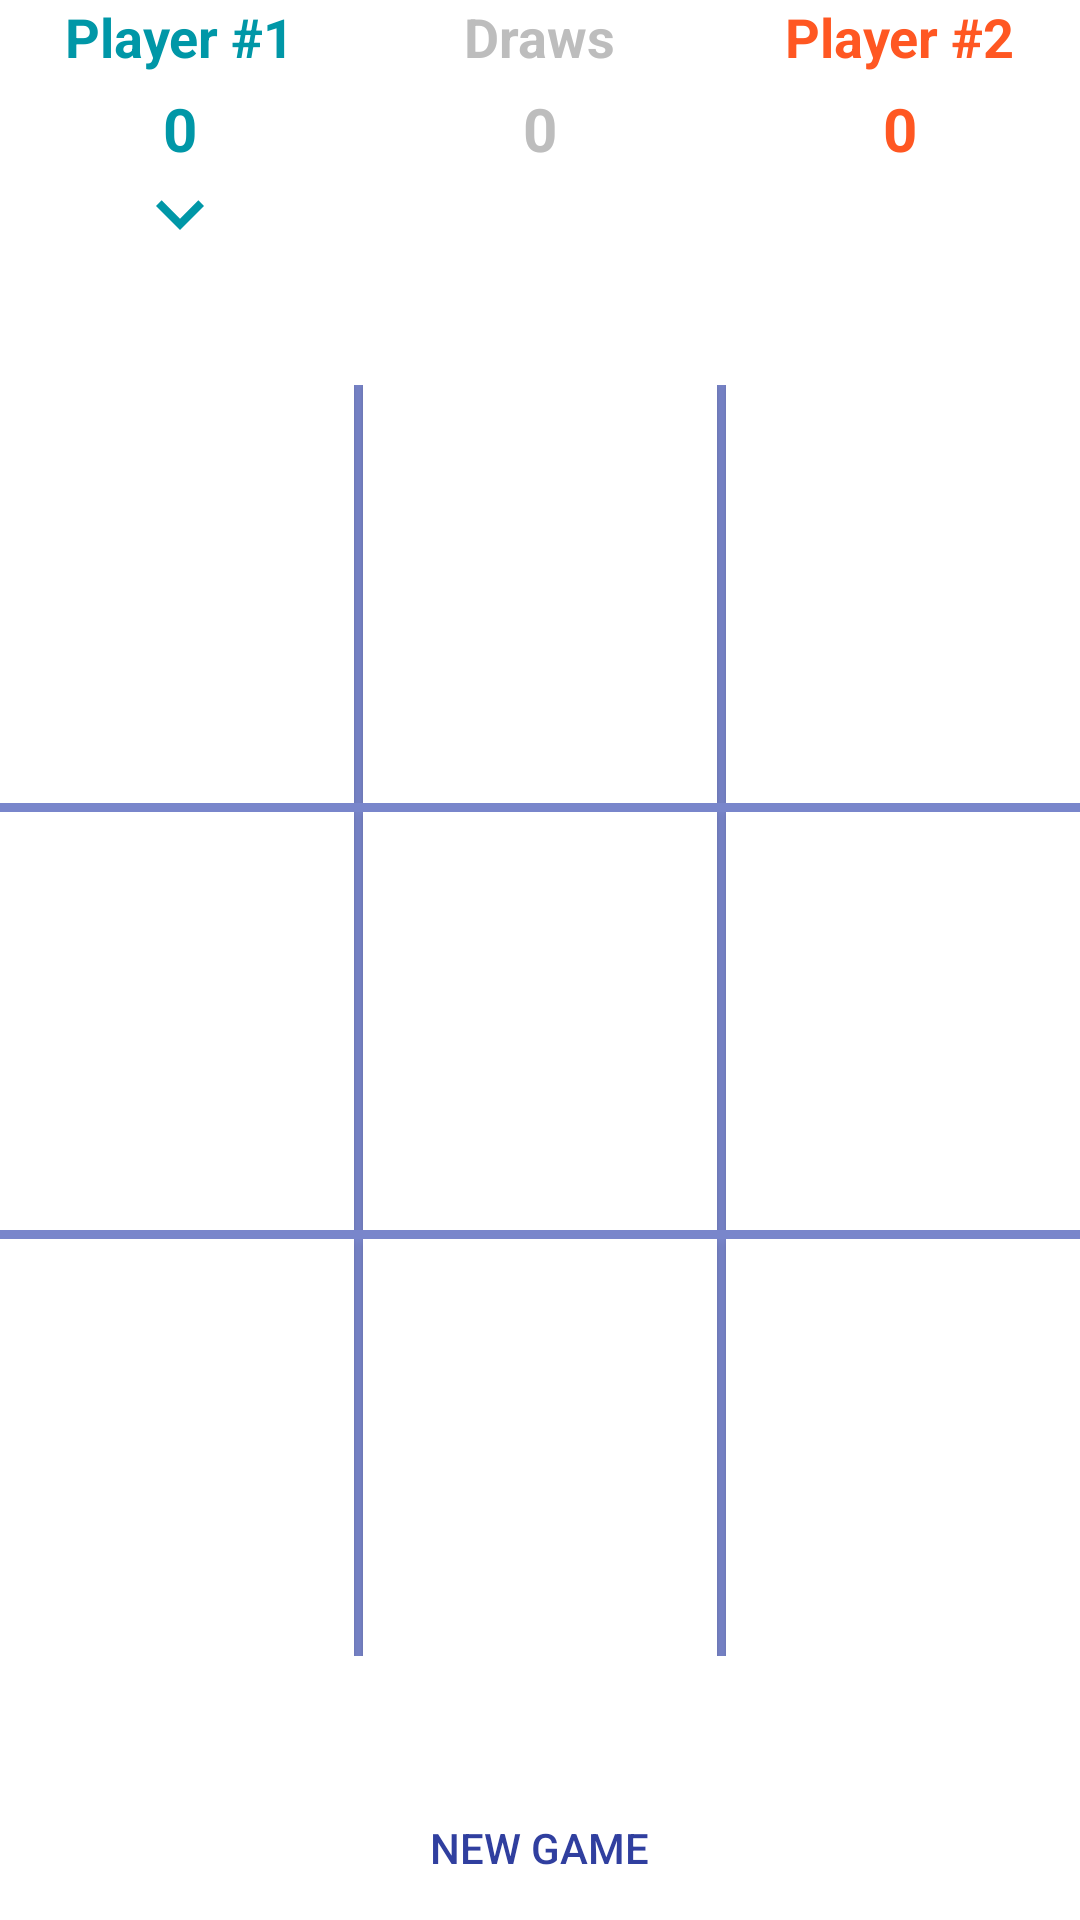

Screen size 1080x1920. Icon name, then its box in pixels as (x1, y1, x2, y2):
player turn indicator: (156, 200, 204, 230)
